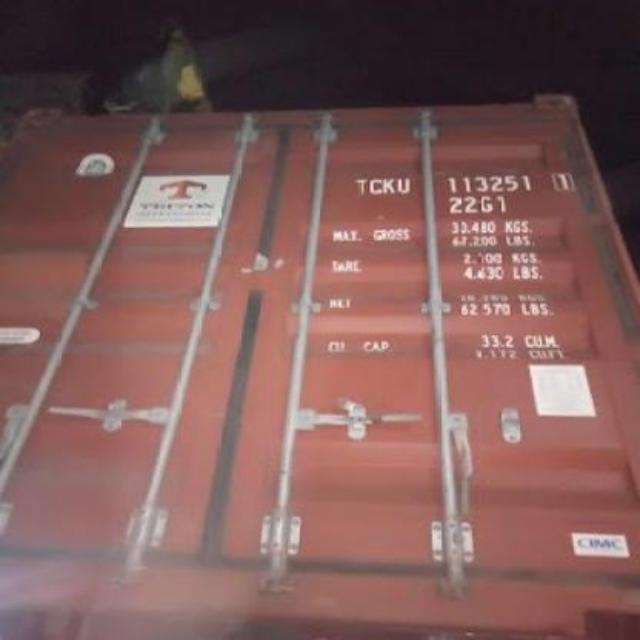1: (548, 170, 572, 190), (518, 170, 534, 194), (444, 170, 460, 193), (461, 170, 474, 193)
2: (488, 172, 506, 194)
3: (474, 170, 490, 192)
5: (504, 172, 518, 192)
C: (368, 170, 382, 197)
K: (382, 174, 394, 198)
T: (350, 172, 368, 198)
U: (396, 174, 414, 198)
